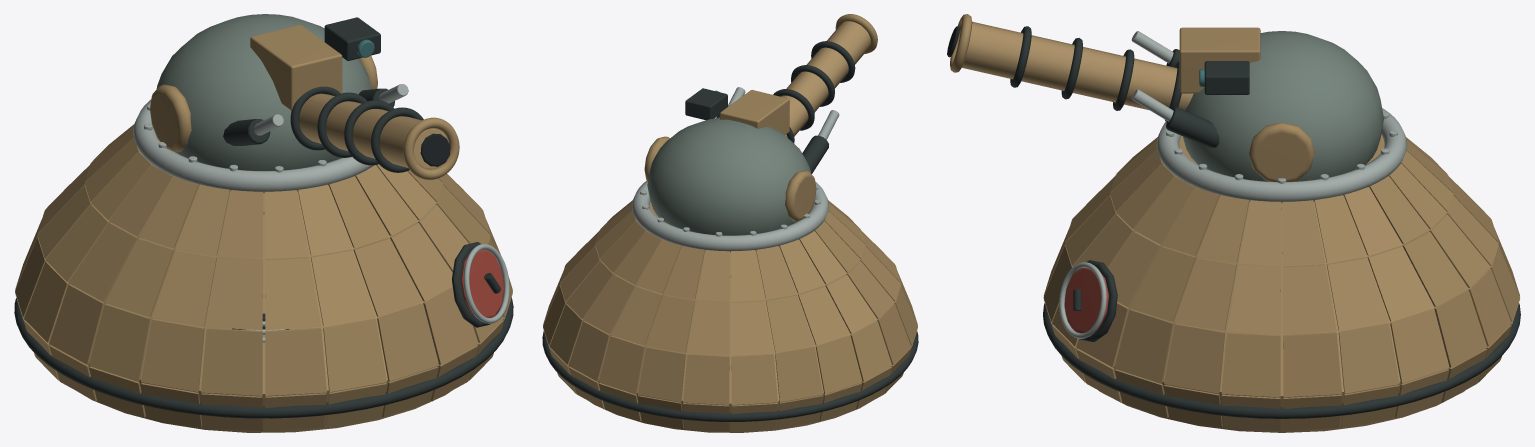
3 views of the same model, side by side, from view 1: azimuth 30°, elevation 25°; view 2: azimuth 150°, elevation 25°; view 3: azimuth 270°, elevation 25° (orthographic). The views are drawn at different scales.
Parts seen in each view (by area): view 1: Armoured pedestal sectors, Weapon pivot, Pedestal foundation joint, Azimuth race flange, Laser focusing module, Weapon barrel, Turret armoured pedestal, Trunnion left, Pedestal systems hatch lid, Muzzle locking ring, Head rangefinder, Pedestal systems hatch rim (+7 smaller); view 2: Armoured pedestal sectors, Weapon pivot, Azimuth race flange, Pedestal foundation joint, Weapon barrel, Turret armoured pedestal, Laser focusing module, Trunnion left, Head rangefinder, Elevation actuator body, Barrel heat-sink collar.002, Barrel heat-sink collar.003 (+3 smaller); view 3: Armoured pedestal sectors, Weapon pivot, Weapon barrel, Azimuth race flange, Pedestal foundation joint, Turret armoured pedestal, Laser focusing module, Trunnion right, Pedestal systems hatch lid, Head rangefinder, Elevation actuator body.001, Pedestal systems hatch rim (+7 smaller).
Part boxes in pixels (<box>): Armoured pedestal sectors: <box>15,124,512,431</box>; Weapon pivot: <box>156,14,371,170</box>; Pedestal foundation joint: <box>14,297,513,418</box>; Azimuth race flange: <box>133,99,373,193</box>; Laser focusing module: <box>250,24,342,110</box>; Weapon barrel: <box>291,94,448,169</box>; Turret armoured pedestal: <box>49,186,478,432</box>; Trunnion left: <box>150,84,191,152</box>; Pedestal systems hatch lid: <box>461,249,504,317</box>; Muzzle locking ring: <box>403,117,459,179</box>; Head rangefinder: <box>324,17,380,60</box>; Pedestal systems hatch rim: <box>463,244,509,323</box>; Armoured pedestal sectors: <box>543,200,917,431</box>; Weapon pivot: <box>647,117,811,235</box>; Azimuth race flange: <box>631,181,829,252</box>; Pedestal foundation joint: <box>542,331,918,421</box>; Weapon barrel: <box>781,21,870,137</box>; Turret armoured pedestal: <box>584,202,876,432</box>; Laser focusing module: <box>720,90,789,135</box>; Trunnion left: <box>785,170,816,221</box>; Head rangefinder: <box>685,88,727,120</box>; Elevation actuator body: <box>802,135,828,174</box>; Barrel heat-sink collar.002: <box>791,65,834,106</box>; Barrel heat-sink collar.003: <box>811,41,855,82</box>; Armoured pedestal sectors: <box>1043,137,1520,430</box>; Weapon pivot: <box>1183,31,1383,181</box>; Weapon barrel: <box>962,21,1193,110</box>; Azimuth race flange: <box>1156,108,1407,202</box>; Pedestal foundation joint: <box>1043,303,1520,418</box>; Turret armoured pedestal: <box>1076,135,1468,432</box>; Laser focusing module: <box>1179,27,1260,93</box>; Trunnion right: <box>1248,122,1315,182</box>; Pedestal systems hatch lid: <box>1064,268,1108,333</box>; Head rangefinder: <box>1204,61,1249,94</box>; Elevation actuator body.001: <box>1166,107,1219,147</box>; Pedestal systems hatch rim: <box>1059,262,1106,338</box>.
Bounding box in the file's own units: 2.01 × 1.5 × 2.42.
